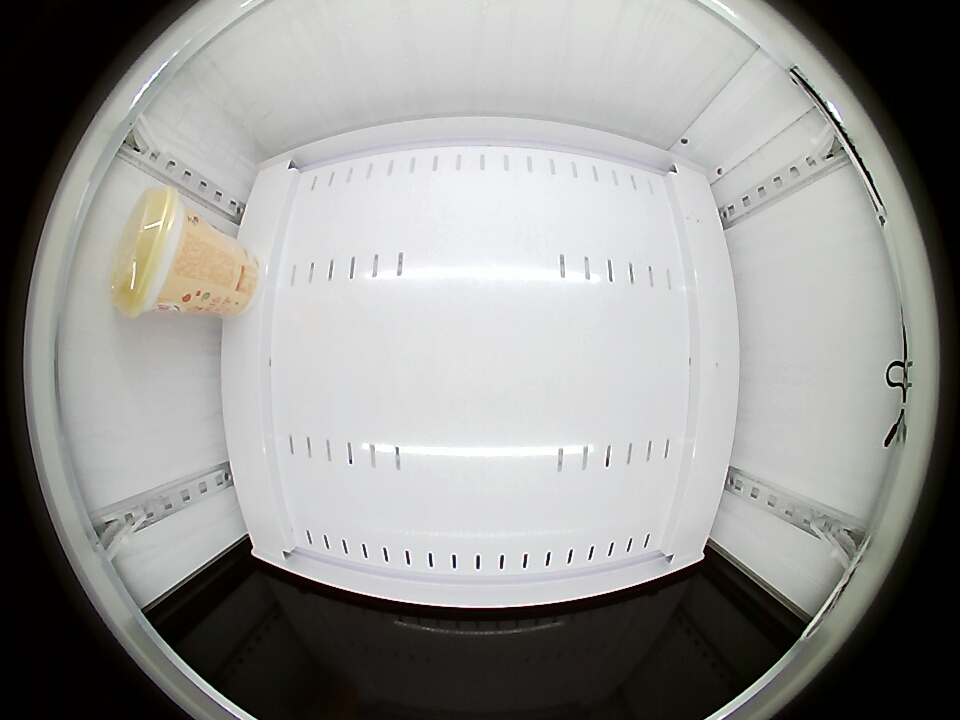youlemei: (111, 186, 197, 318)
